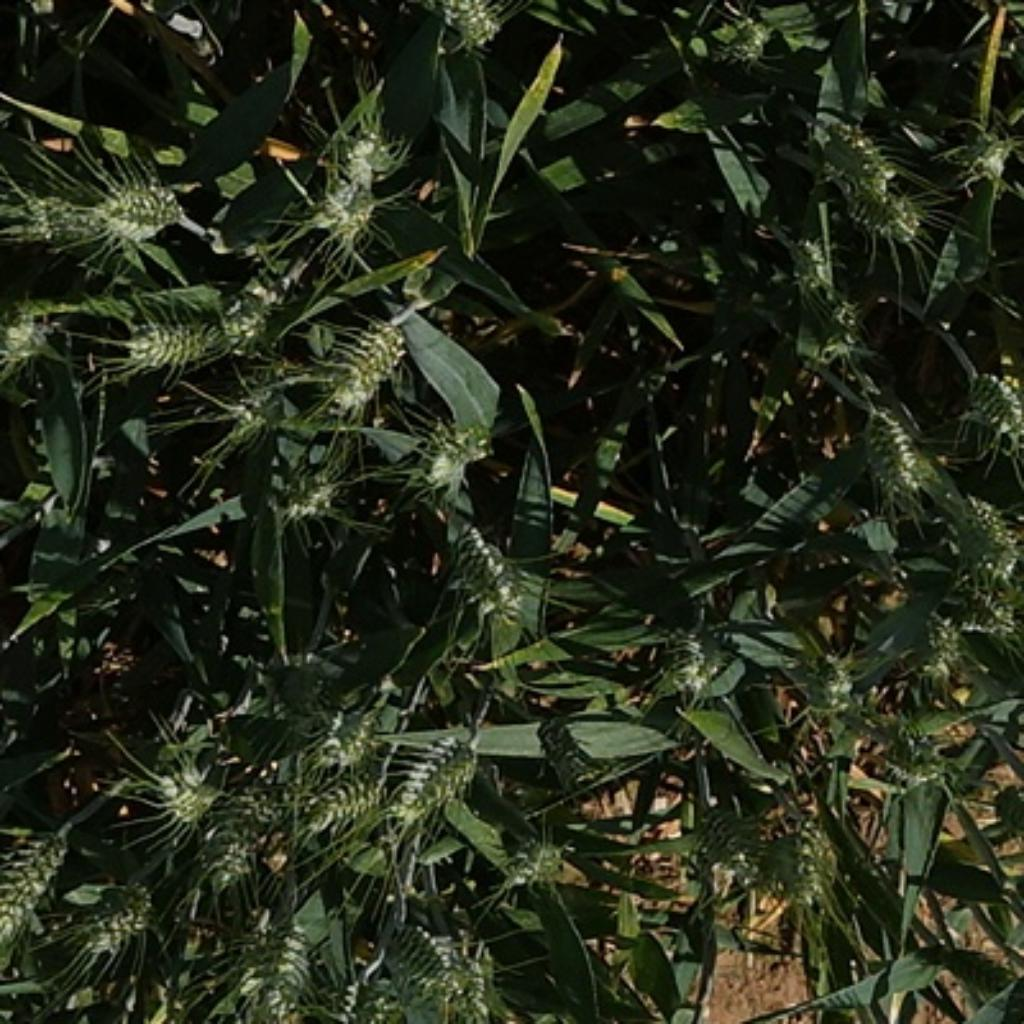0-0: (296, 107, 407, 243), (424, 506, 545, 627), (386, 719, 483, 826), (314, 307, 409, 414), (222, 906, 317, 1013), (798, 118, 911, 207), (373, 911, 478, 1006), (775, 634, 862, 747), (696, 796, 783, 906), (212, 358, 299, 468), (204, 780, 284, 896), (207, 258, 299, 355), (256, 437, 351, 528), (79, 168, 189, 245), (0, 827, 71, 946), (852, 399, 934, 499), (71, 870, 158, 960), (12, 179, 122, 250), (281, 765, 389, 834), (921, 936, 1024, 1008), (412, 409, 499, 494), (120, 309, 235, 373), (657, 606, 734, 701), (775, 829, 852, 924), (939, 567, 1024, 647), (826, 184, 932, 248), (148, 747, 230, 829), (890, 599, 965, 683), (878, 716, 954, 798), (524, 706, 604, 780), (952, 491, 1024, 573), (954, 358, 1024, 440), (947, 112, 1024, 184), (2, 299, 66, 381), (314, 696, 384, 765), (701, 7, 785, 64), (424, 0, 509, 51), (499, 829, 570, 890)
